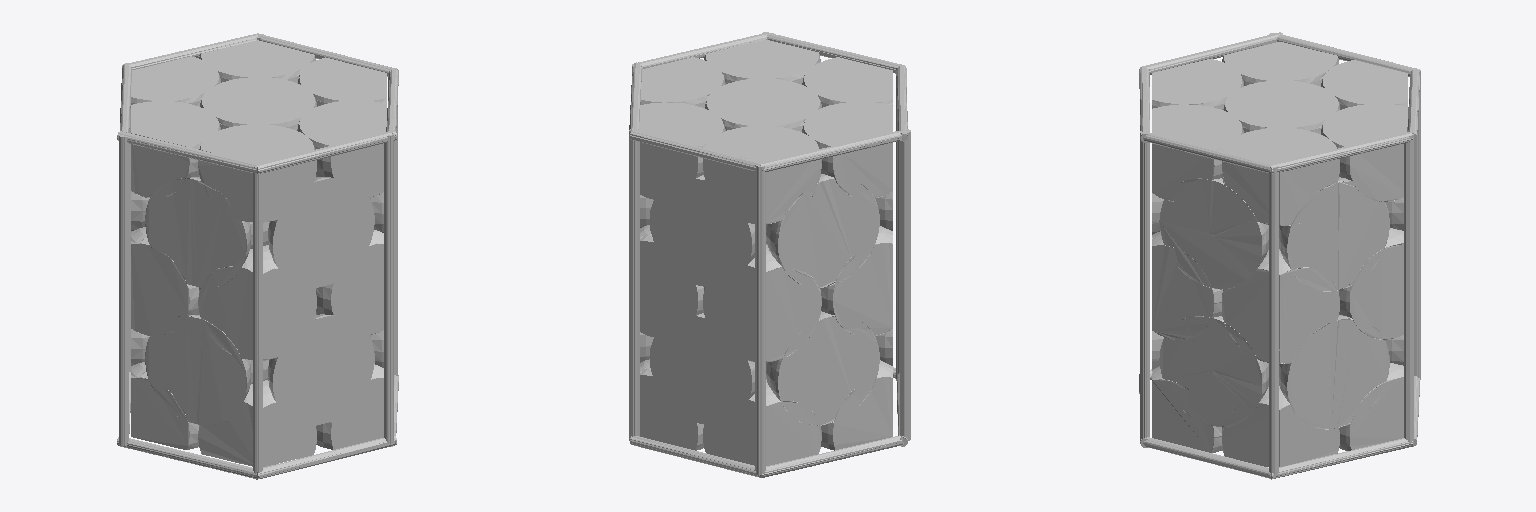
File: hexagonal centrada en el cuerpo.obj.obj
3 views of the same model, side by side, from view 1: azimuth 30°, elevation 25°; view 2: azimuth 150°, elevation 25°; view 3: azimuth 270°, elevation 25° (orthographic).
Parts seen in each view (by area): view 1: Sphere.515_Sphere.589, Sphere.521_Sphere.595, Cylinder.164_Cylinder.176, Cylinder.166_Cylinder.178, Cylinder.167_Cylinder.179, Cylinder.156_Cylinder.168, Cylinder.162_Cylinder.174, Cylinder.155_Cylinder.167, Cylinder.161_Cylinder.173, Cylinder.165_Cylinder.177, Cylinder.151_Cylinder.163, Cylinder.154_Cylinder.166 (+2 smaller); view 2: Sphere.515_Sphere.589, Sphere.521_Sphere.595, Cylinder.163_Cylinder.175, Cylinder.164_Cylinder.176, Cylinder.168_Cylinder.180, Cylinder.158_Cylinder.170, Cylinder.152_Cylinder.164, Cylinder.151_Cylinder.163, Cylinder.157_Cylinder.169, Cylinder.156_Cylinder.168, Cylinder.167_Cylinder.179, Cylinder.153_Cylinder.165 (+2 smaller); view 3: Sphere.515_Sphere.589, Sphere.521_Sphere.595, Cylinder.165_Cylinder.177, Cylinder.168_Cylinder.180, Cylinder.166_Cylinder.178, Cylinder.163_Cylinder.175, Cylinder.154_Cylinder.166, Cylinder.160_Cylinder.172, Cylinder.159_Cylinder.171, Cylinder.153_Cylinder.165, Cylinder.155_Cylinder.167, Cylinder.152_Cylinder.164 (+2 smaller).
Boxes of the visible parts, box(x1,y1,x2,y2) form: Sphere.515_Sphere.589: box(131, 40, 386, 466); Sphere.521_Sphere.595: box(131, 177, 383, 425); Cylinder.164_Cylinder.176: box(119, 135, 128, 445); Cylinder.166_Cylinder.178: box(384, 134, 393, 443); Cylinder.167_Cylinder.179: box(253, 167, 262, 473); Cylinder.156_Cylinder.168: box(257, 130, 396, 173); Cylinder.162_Cylinder.174: box(256, 435, 396, 479); Cylinder.155_Cylinder.167: box(117, 131, 259, 172); Cylinder.161_Cylinder.173: box(117, 437, 256, 478); Cylinder.165_Cylinder.177: box(388, 68, 397, 375); Cylinder.151_Cylinder.163: box(127, 33, 259, 69); Cylinder.154_Cylinder.166: box(258, 34, 398, 76); Sphere.515_Sphere.589: box(639, 40, 892, 465); Sphere.521_Sphere.595: box(640, 174, 892, 425); Cylinder.163_Cylinder.175: box(755, 165, 765, 475); Cylinder.164_Cylinder.176: box(900, 129, 910, 440); Cylinder.168_Cylinder.180: box(629, 129, 639, 437); Cylinder.158_Cylinder.170: box(760, 435, 902, 477); Cylinder.152_Cylinder.164: box(758, 131, 901, 171); Cylinder.151_Cylinder.163: box(630, 130, 760, 170); Cylinder.157_Cylinder.169: box(630, 436, 759, 477); Cylinder.156_Cylinder.168: box(762, 32, 904, 73); Cylinder.167_Cylinder.179: box(896, 66, 905, 374); Cylinder.153_Cylinder.165: box(637, 32, 770, 68); Sphere.515_Sphere.589: box(1152, 42, 1407, 466); Sphere.521_Sphere.595: box(1152, 177, 1403, 429); Cylinder.165_Cylinder.177: box(1269, 166, 1278, 475); Cylinder.168_Cylinder.180: box(1404, 132, 1413, 443); Cylinder.166_Cylinder.178: box(1140, 131, 1149, 440); Cylinder.163_Cylinder.175: box(1414, 68, 1420, 379); Cylinder.154_Cylinder.166: box(1269, 132, 1412, 173); Cylinder.160_Cylinder.172: box(1271, 438, 1412, 479); Cylinder.159_Cylinder.171: box(1140, 437, 1270, 478); Cylinder.153_Cylinder.165: box(1140, 132, 1273, 172); Cylinder.155_Cylinder.167: box(1144, 32, 1282, 74); Cylinder.152_Cylinder.164: box(1277, 34, 1418, 76).
Bounding box in the file's own units: 1.01 × 1.09 × 0.888.